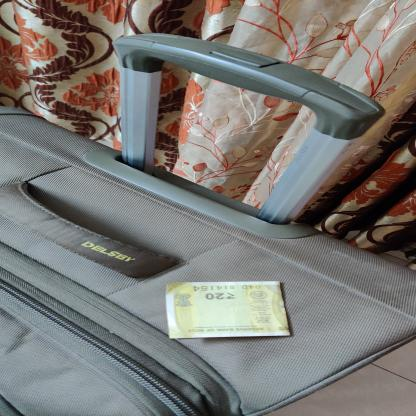New20Front: (160, 279, 296, 341)
